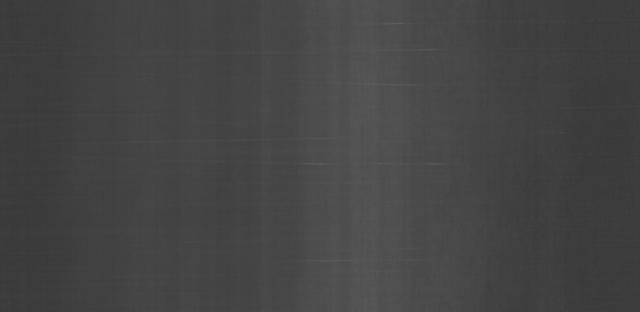waist_folding: (272, 34, 450, 256)
